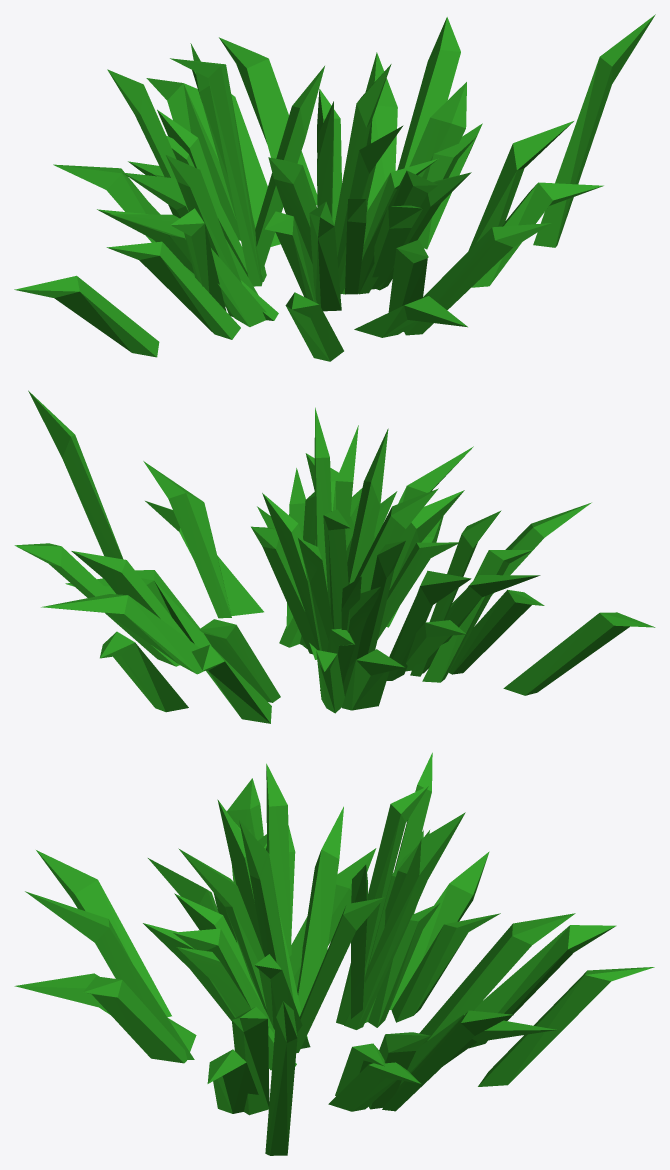
File: Grass.fbx
3 renders of one model, top to bottom at view 1: azimuth 30°, elevation 25°; view 2: azimuth 150°, elevation 25°; view 3: azimuth 270°, elevation 25°, orthographic. The views are drawn at different scales.
Visible parts, largest first — view 1: grass; view 2: grass; view 3: grass.
Part boxes in pixels (x1,y1,x2,y2): grass: (14, 14, 655, 361); grass: (14, 390, 655, 723); grass: (14, 752, 654, 1155).
Bounding box in the file's own units: 6.84 × 2.36 × 5.6.
